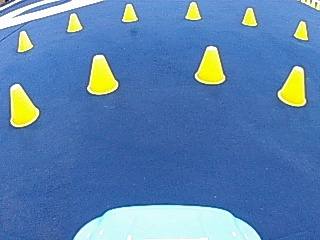cone: (8, 82, 40, 126), (86, 52, 118, 94), (194, 44, 226, 84), (277, 64, 307, 105), (16, 29, 33, 51), (184, 1, 201, 20), (121, 3, 138, 22), (241, 6, 257, 26), (66, 12, 82, 32), (293, 20, 308, 40)
